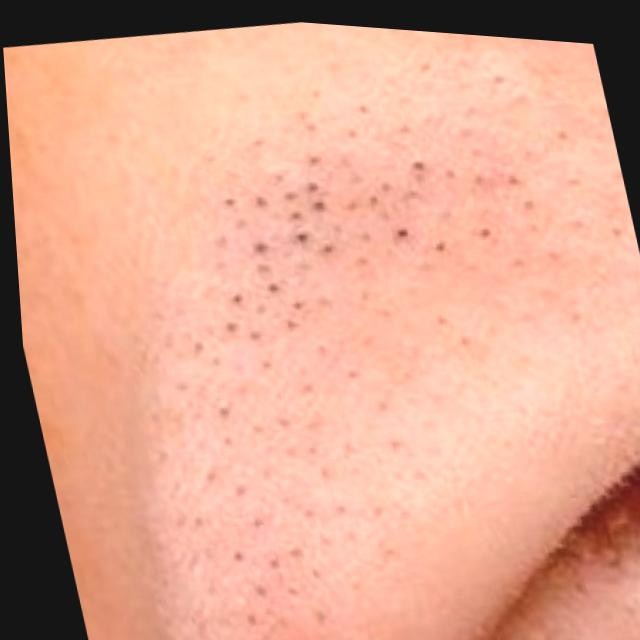blackhead: (160, 80, 545, 484)
